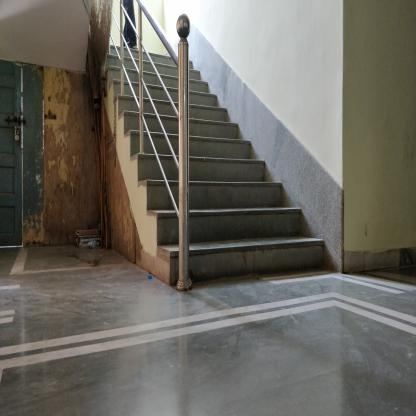stairs: (193, 122, 240, 293)
